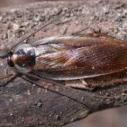cockroach: (6, 34, 127, 82)
